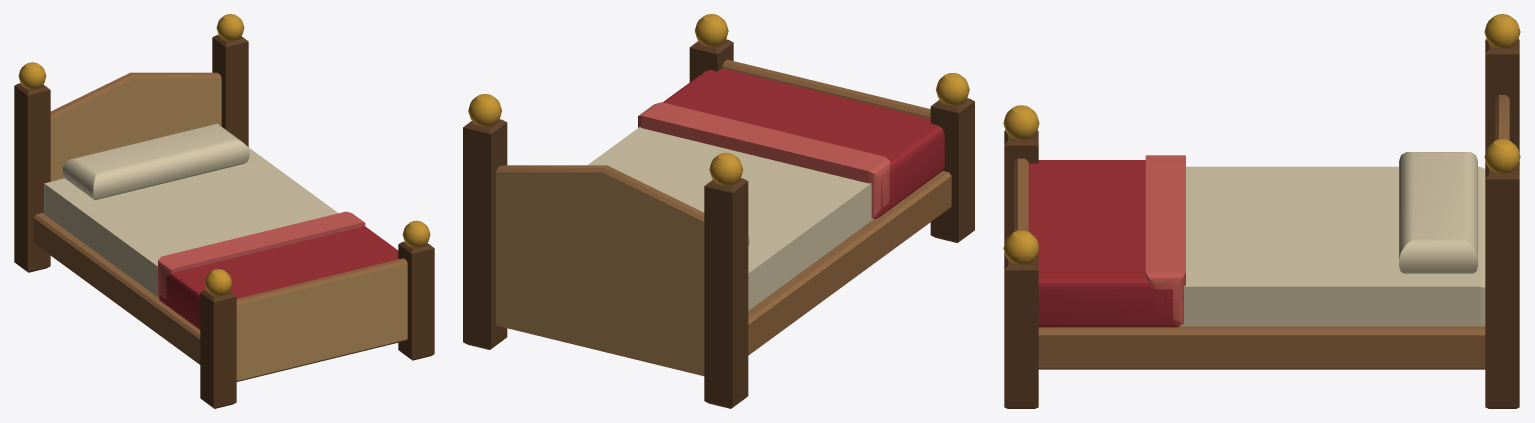
Rendered from Bed_16.glb.
3 views of the same model, side by side, from view 1: azimuth 30°, elevation 25°; view 2: azimuth 150°, elevation 25°; view 3: azimuth 270°, elevation 25° (orthographic). The views are drawn at different scales.
Visible parts, largest first — view 1: Bed_16; view 2: Bed_16; view 3: Bed_16.
Part boxes in pixels (x1,y1,x2,y2): Bed_16: [14, 14, 434, 408]; Bed_16: [463, 14, 974, 408]; Bed_16: [1003, 14, 1520, 408].
Bounding box in the file's own units: 4.61 × 4.03 × 7.19.
